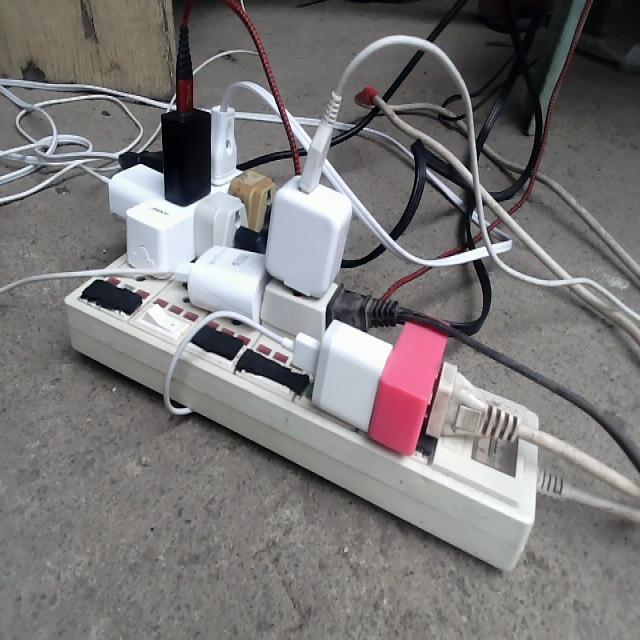-: (62, 97, 538, 575)
